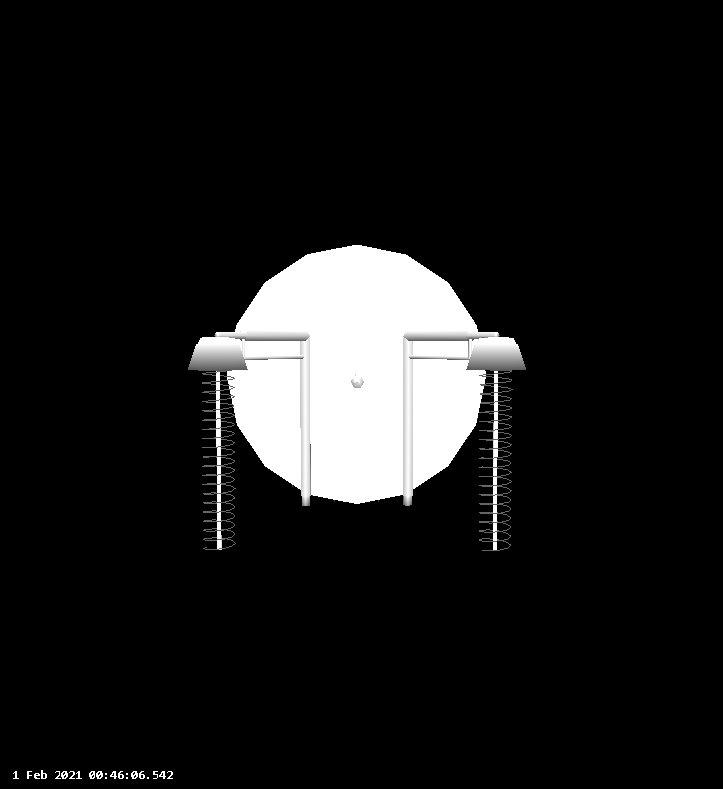antenna: (188, 333, 252, 560), (465, 333, 526, 557), (344, 367, 371, 394)
body: (225, 242, 490, 506)
